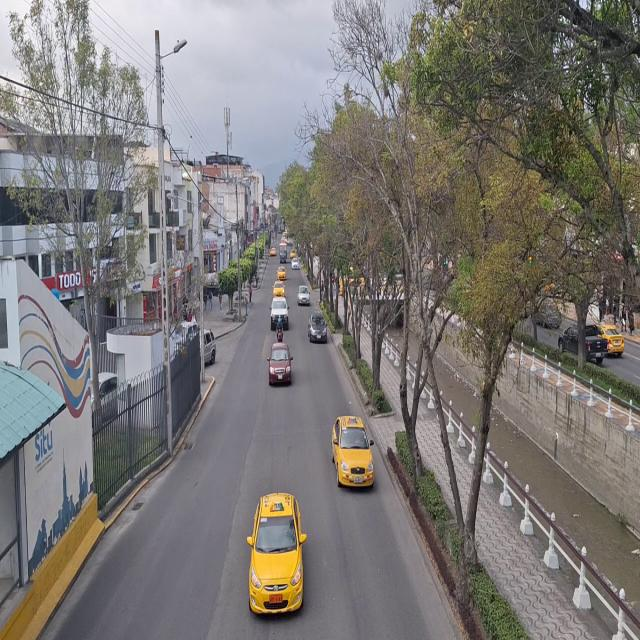CMT: (559, 324, 609, 361)
SED: (251, 497, 305, 615), (335, 416, 374, 484), (310, 315, 327, 342)
SUV: (268, 343, 292, 383), (270, 298, 289, 330), (299, 285, 311, 304)
